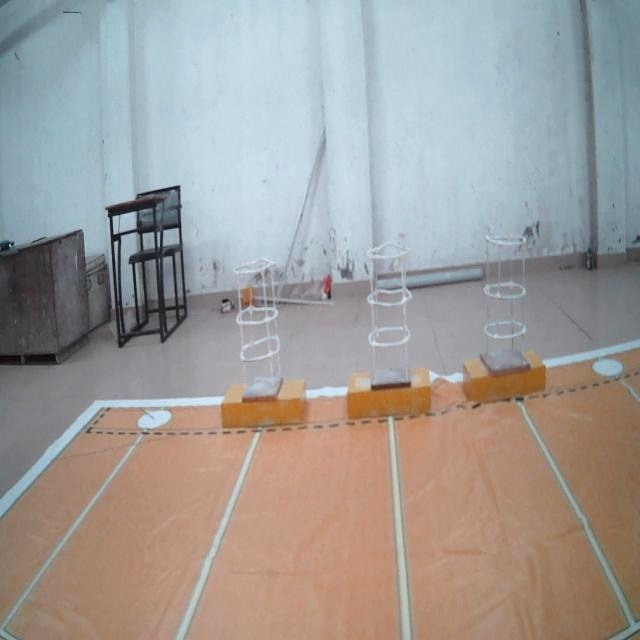silo: (223, 237, 294, 414), (359, 232, 427, 404), (476, 217, 536, 390)
